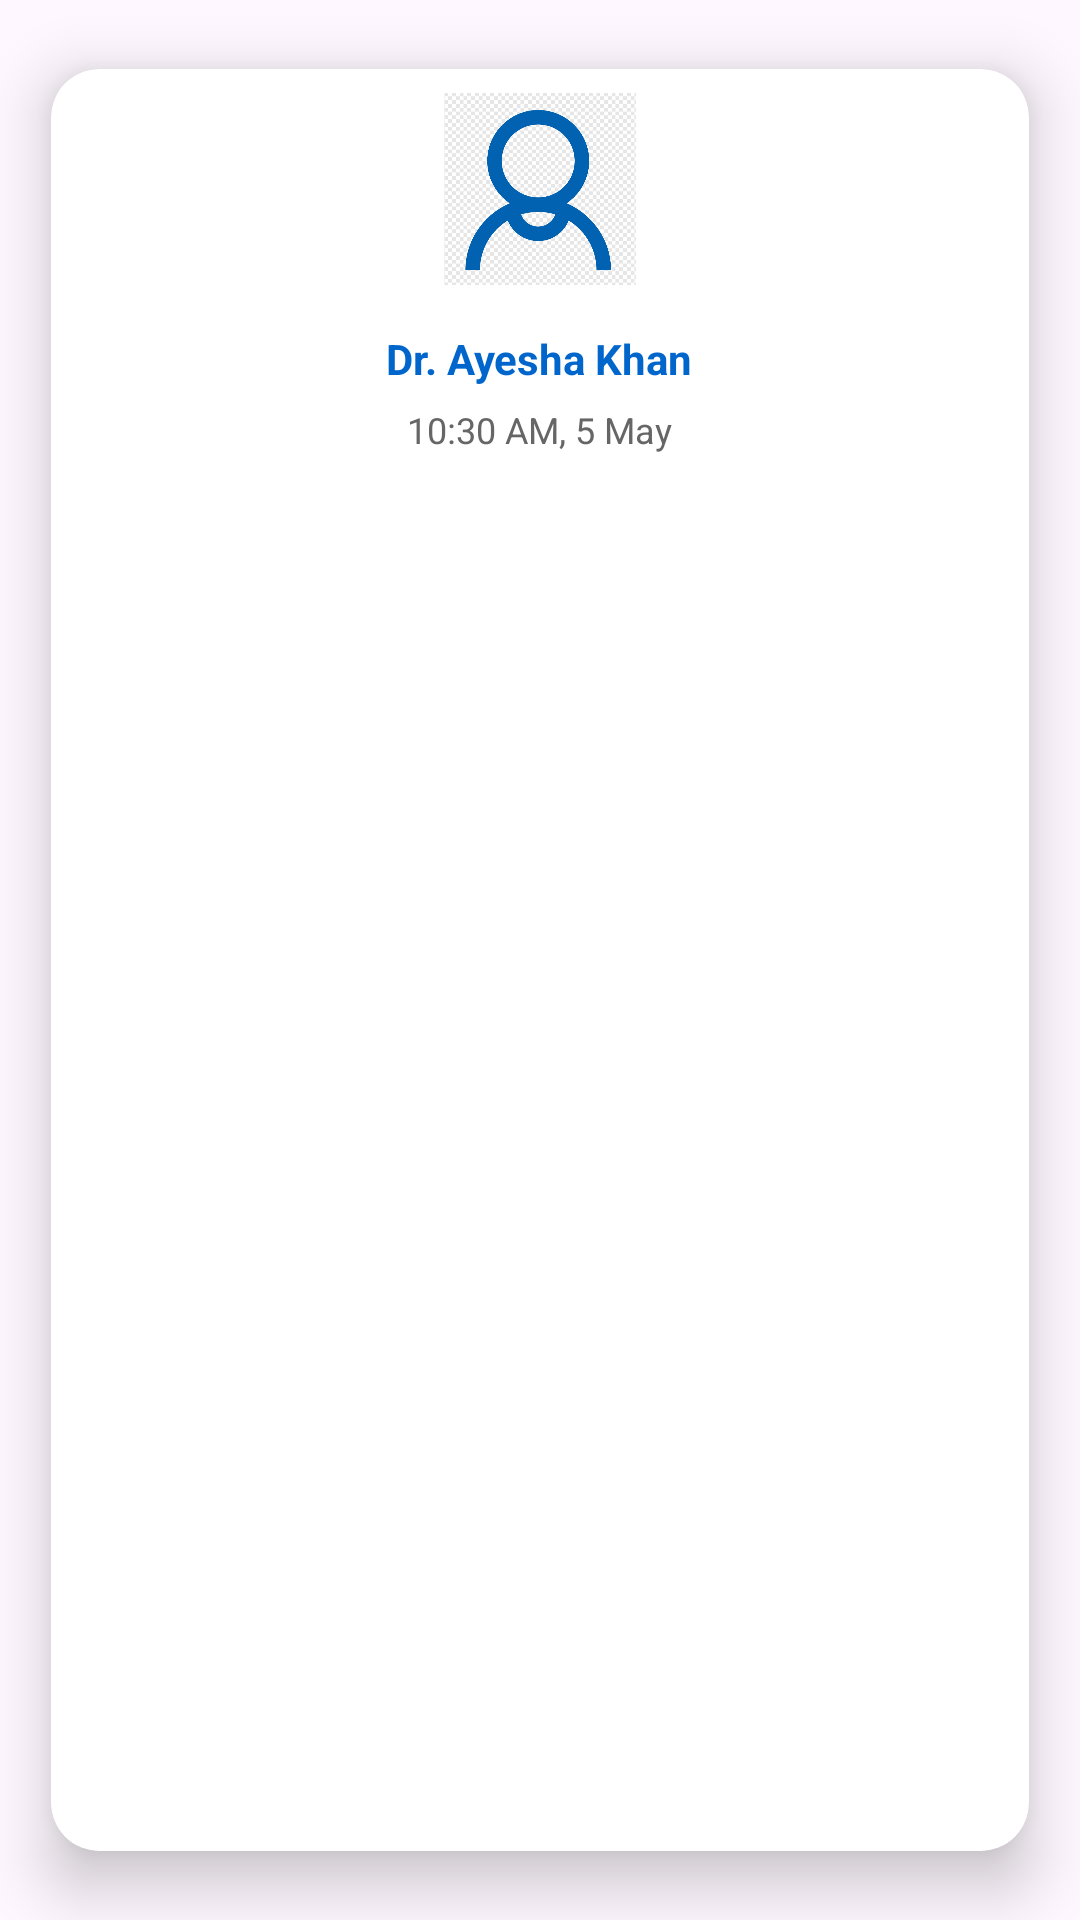

Named icons in this screenshot (1080 x 1920) and their bounding boxes, (x1, y1, x2, y2):
Profile Image: (445, 93, 636, 285)
